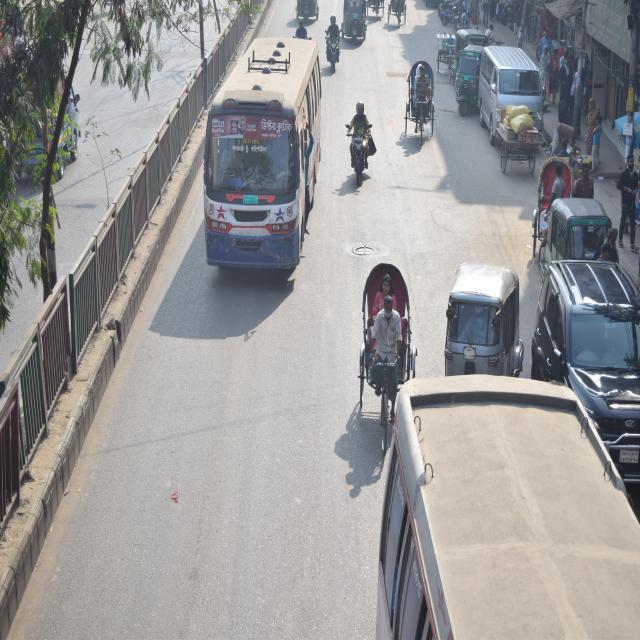bus: (358, 372, 640, 640), (202, 31, 327, 280)
car: (534, 246, 640, 455)
microbus: (472, 41, 546, 151)
motorbike: (347, 114, 378, 195), (323, 22, 343, 84)
